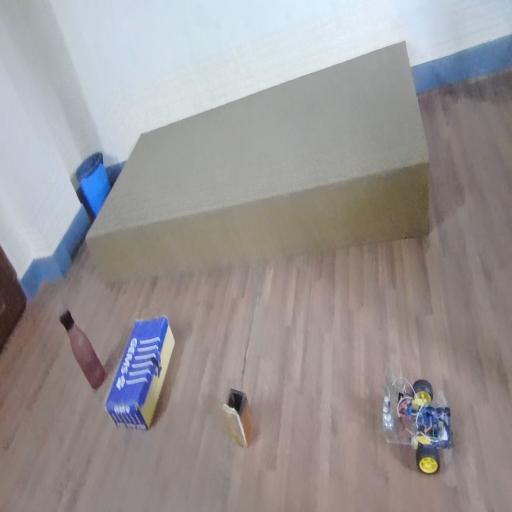Bottle: (50, 304, 128, 421)
car: (384, 365, 469, 480)
